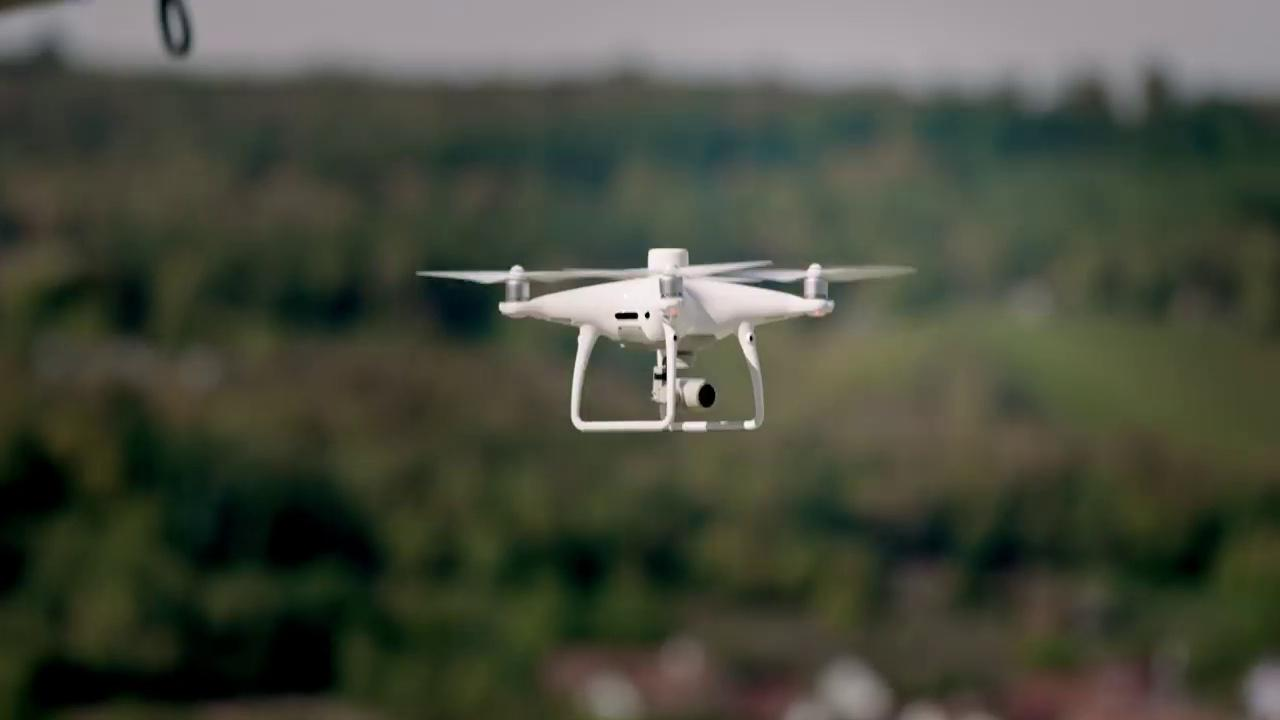drone: (411, 243, 922, 442)
